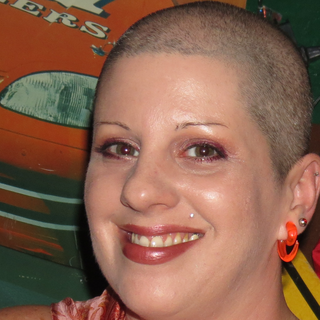eye: (166, 138, 232, 169), (94, 134, 145, 166)
